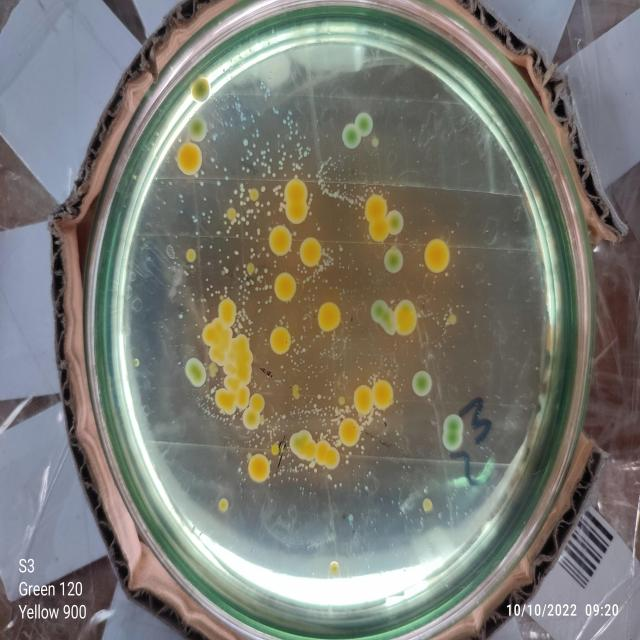green: (185, 358, 207, 388), (412, 370, 432, 398), (384, 246, 403, 274), (342, 124, 362, 150), (188, 116, 207, 142), (192, 77, 210, 103), (355, 113, 373, 137), (387, 211, 404, 235), (443, 414, 464, 433), (372, 300, 388, 324), (442, 432, 463, 450), (382, 309, 394, 333), (372, 138, 379, 148), (133, 358, 140, 367)
yellow: (424, 238, 451, 273), (394, 299, 418, 337), (177, 142, 202, 176), (268, 224, 292, 256), (318, 302, 342, 333), (372, 379, 394, 410), (300, 237, 322, 268), (274, 272, 296, 303), (338, 418, 361, 447), (248, 454, 270, 483), (270, 327, 292, 355), (354, 385, 374, 415), (365, 195, 387, 222), (284, 201, 308, 225), (368, 217, 390, 243), (285, 179, 308, 203), (218, 298, 237, 326), (242, 407, 261, 430), (316, 440, 331, 467), (325, 447, 340, 470), (202, 323, 216, 346), (250, 392, 265, 413), (215, 388, 228, 411), (237, 386, 250, 409), (211, 316, 223, 335), (186, 248, 197, 263), (422, 498, 432, 512), (219, 498, 229, 512), (226, 207, 236, 221), (224, 375, 234, 389), (210, 347, 219, 361), (330, 561, 339, 574), (250, 189, 259, 202), (246, 262, 255, 274), (449, 315, 457, 325), (271, 445, 279, 455), (292, 383, 300, 392), (338, 396, 345, 406), (293, 392, 300, 400), (209, 362, 215, 371), (210, 371, 216, 378), (214, 366, 219, 373)
